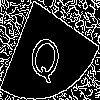Q: (25, 25, 68, 87)
